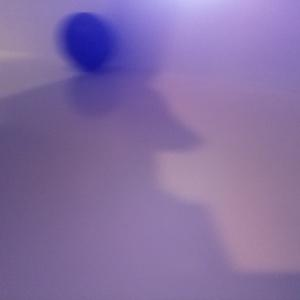dead_ball: (58, 12, 113, 71)
